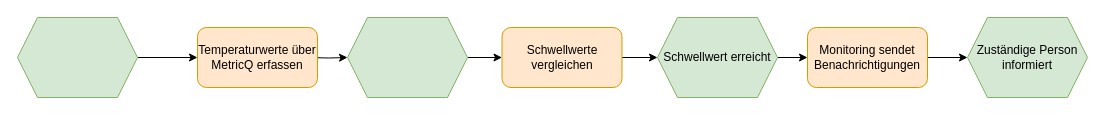
The diagram is 1105 pixels wide and 115 high, and some of its shapes have lost their labels. The shapes that lost their labels are listed below. From the top down, each one's centre as x and y in pixels, then its label:
At pixel 77 57: "Kühlung fällt aus".
At pixel 407 57: "Temperaturwerte steigen weiter an".
